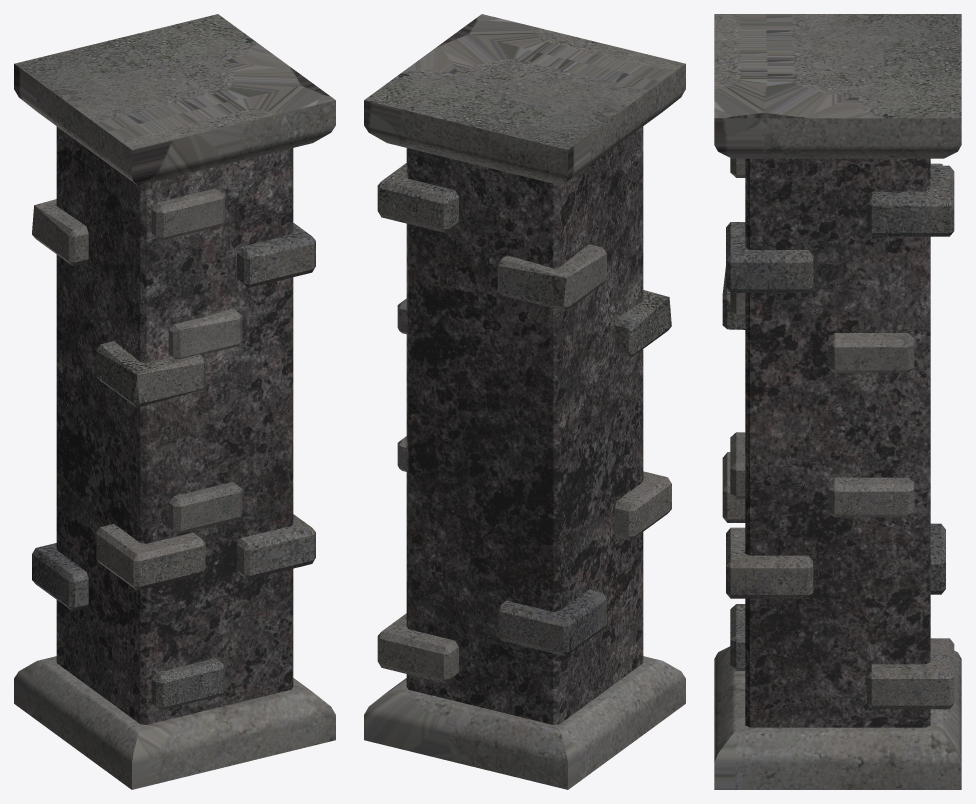
Rendered from Pillar1.fbx.
3 views of the same model, side by side, from view 1: azimuth 30°, elevation 25°; view 2: azimuth 150°, elevation 25°; view 3: azimuth 270°, elevation 25° (orthographic). The views are drawn at different scales.
Visible parts, largest first — view 1: Pillar1; view 2: Pillar1; view 3: Pillar1.
Part boxes in pixels (x1,y1,x2,y2): Pillar1: (14, 14, 335, 789); Pillar1: (364, 14, 685, 789); Pillar1: (714, 14, 961, 789).
Bounding box in the file's own units: 1 × 3 × 1.
1 material, 1 textured.
